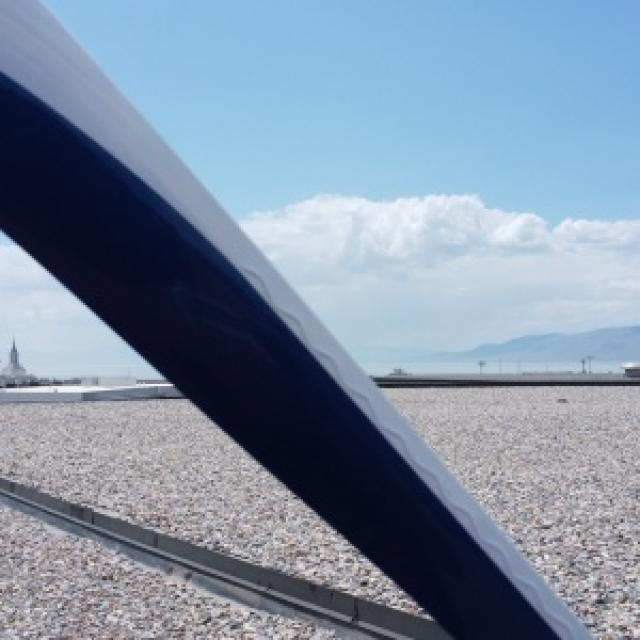healthy: (0, 0, 589, 638)
